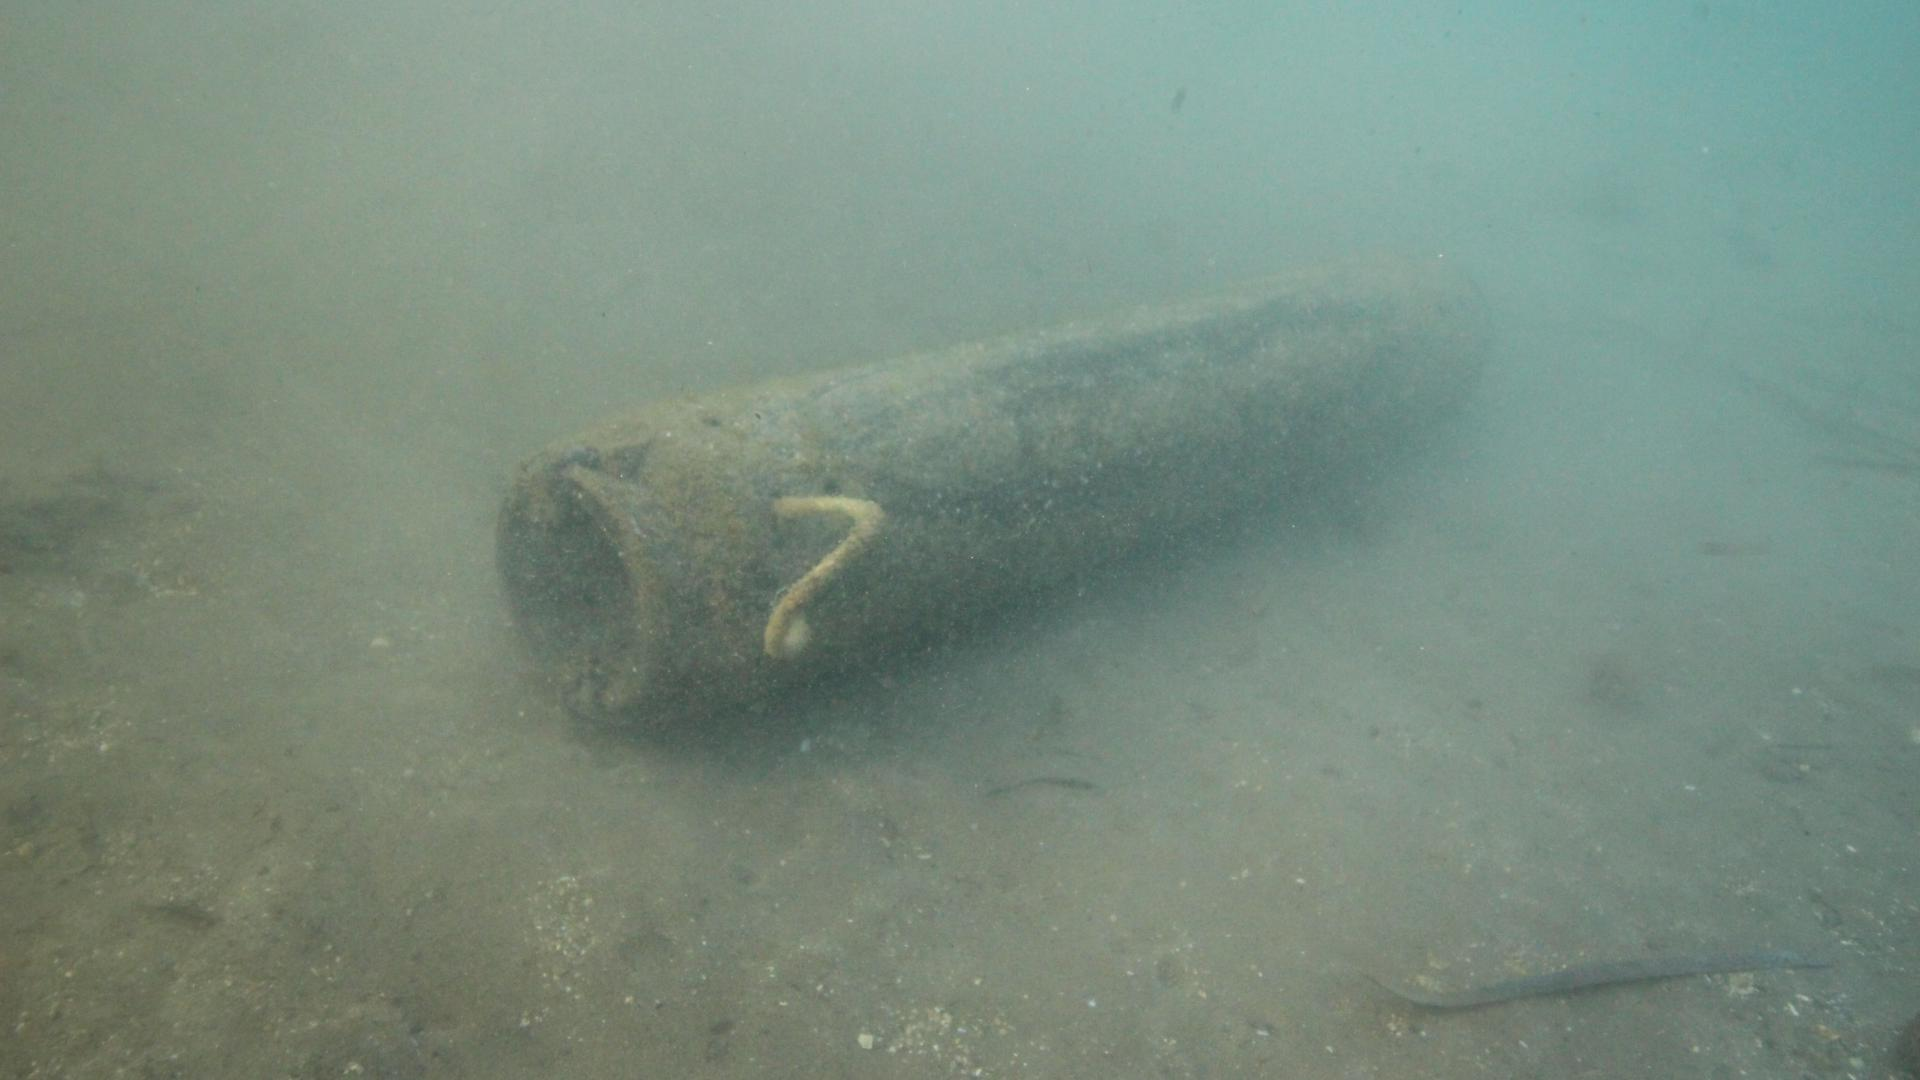eel fish trap: (495, 252, 1489, 727)
rope: (756, 491, 891, 665)
